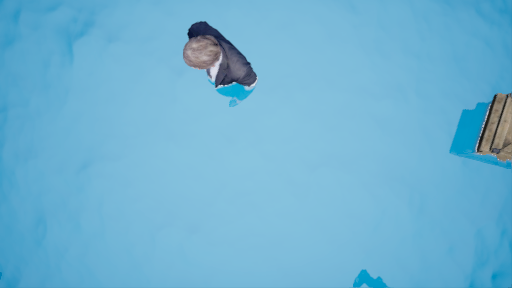person: (183, 16, 263, 112)
